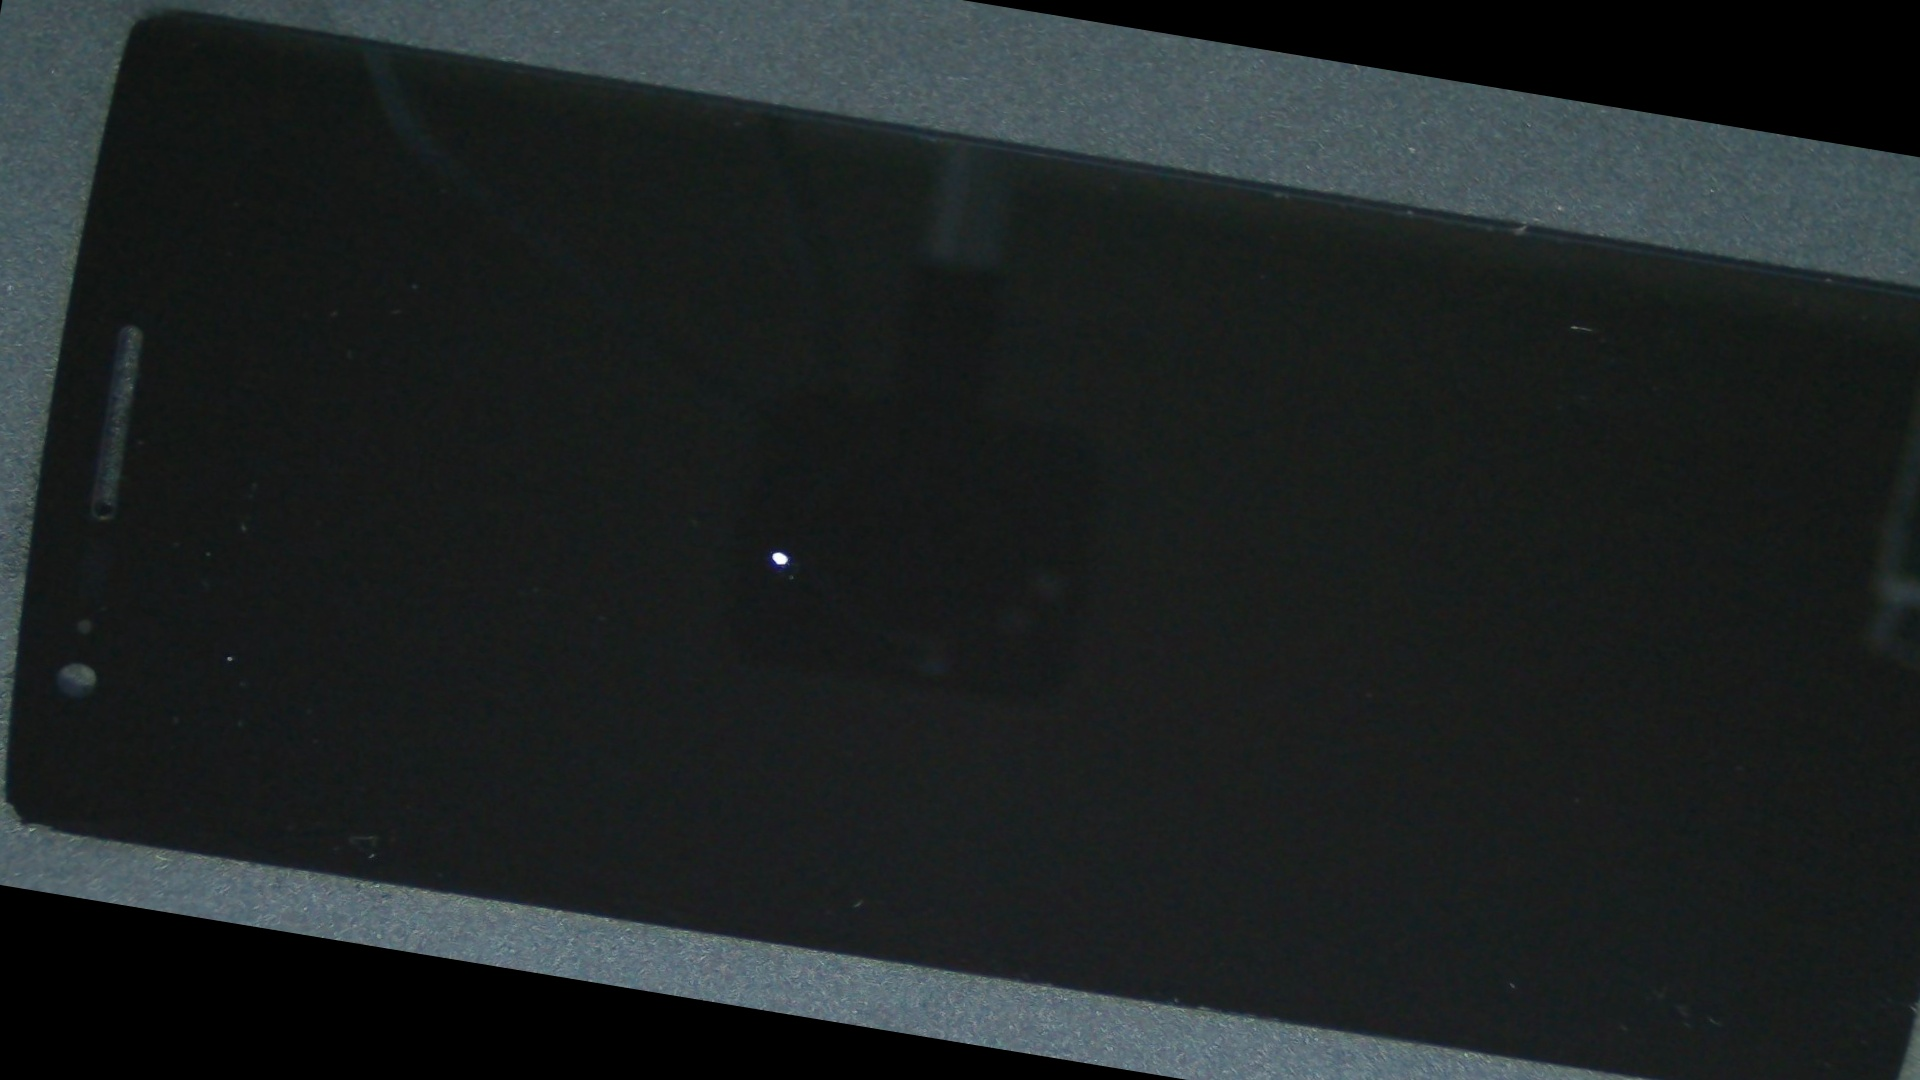oil: (313, 198, 1249, 902)
